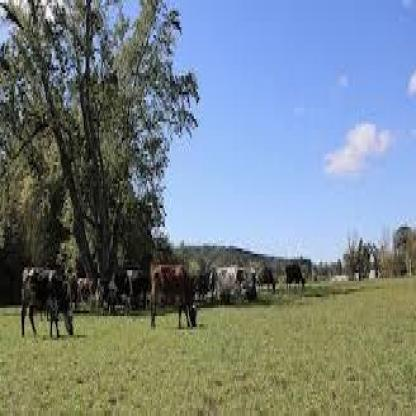cow: (21, 268, 75, 340), (149, 257, 200, 330), (126, 267, 153, 316), (209, 263, 240, 304), (284, 260, 308, 296)
